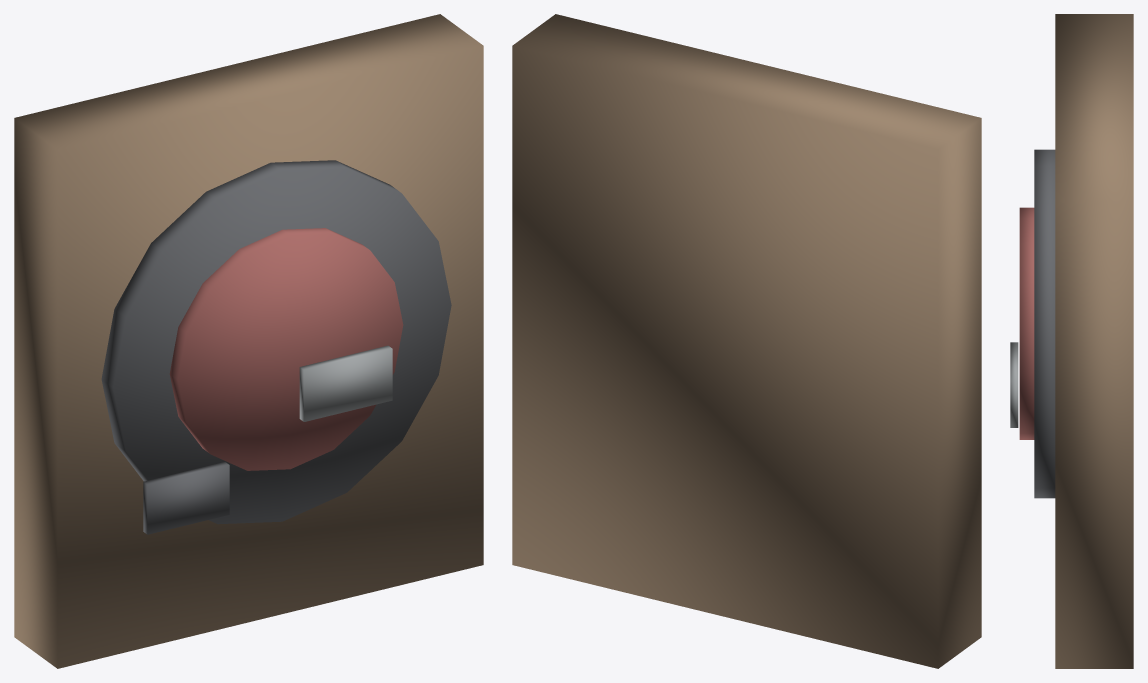
Rendered from dartboard_cabinet__weathered.glb.
3 renders of one model, left to right at view 1: azimuth 30°, elevation 25°; view 2: azimuth 150°, elevation 25°; view 3: azimuth 270°, elevation 25°, orthographic. The views are drawn at different scales.
Visible parts, largest first — view 1: world; view 2: world; view 3: world.
Part boxes in pixels (box(x1,y1,x2,y2)): world: box(14, 14, 483, 668); world: box(512, 14, 981, 668); world: box(1010, 14, 1133, 668).
Bounding box in the file's own units: 0.68 × 0.792 × 0.189.
